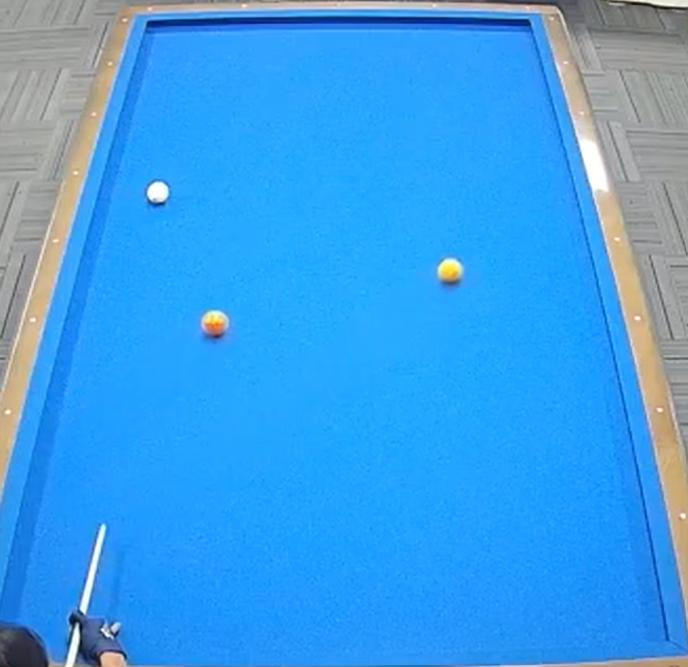orange ball: (200, 304, 235, 345)
white ball: (142, 174, 174, 208)
yellow ball: (432, 251, 466, 295)
